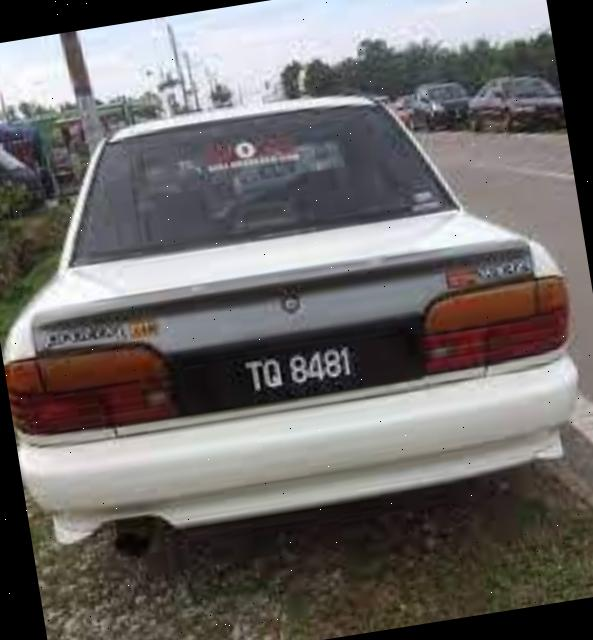License_Plate: (177, 305, 422, 426)
car: (1, 59, 593, 564)
